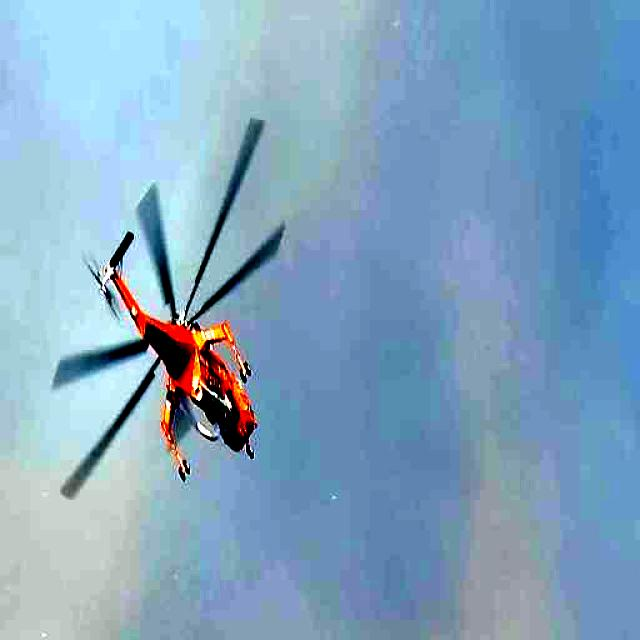drone: (49, 105, 288, 505)
